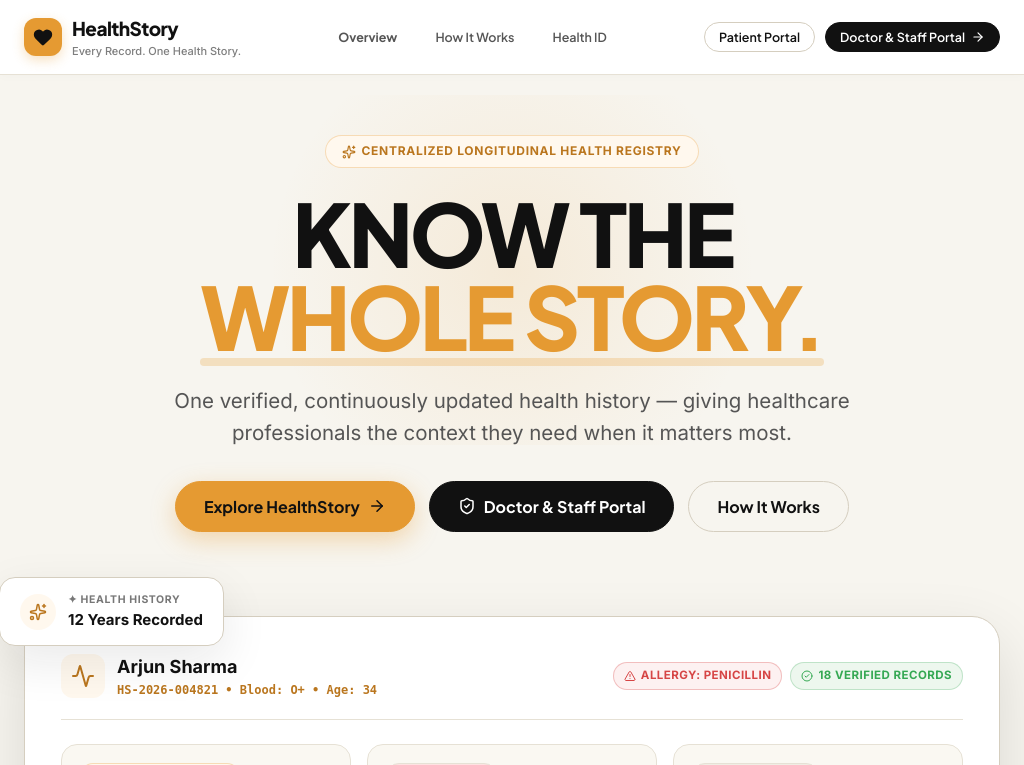
it: HealthStory Comprehensive Application & Button Flow Tests › 3. Doctor Sign-In authenticates registered staff member
Click Doctor & Staff Portal button
Click the 1st button "Doctor & Staff Portal".
click(912, 37)  # box [825,22,1000,52]
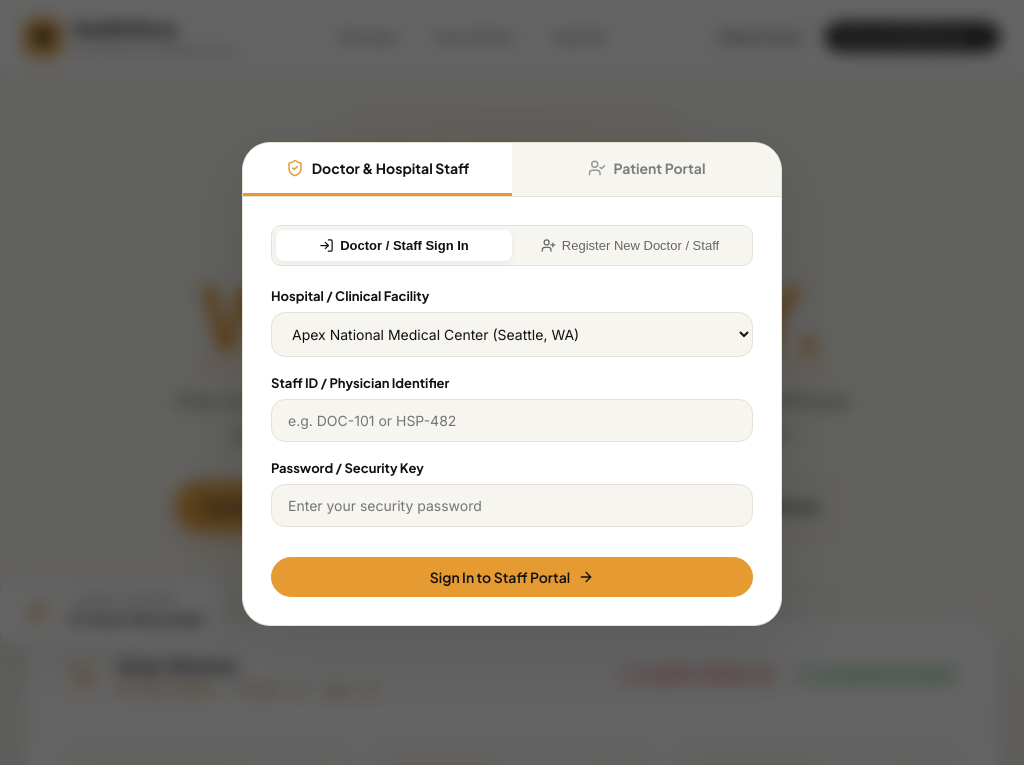
Type "DOC-501" into the field with placeholder "e.g. DOC-101 or HSP-482".
click(512, 421); type("DOC-501")  # box [271,399,753,442]
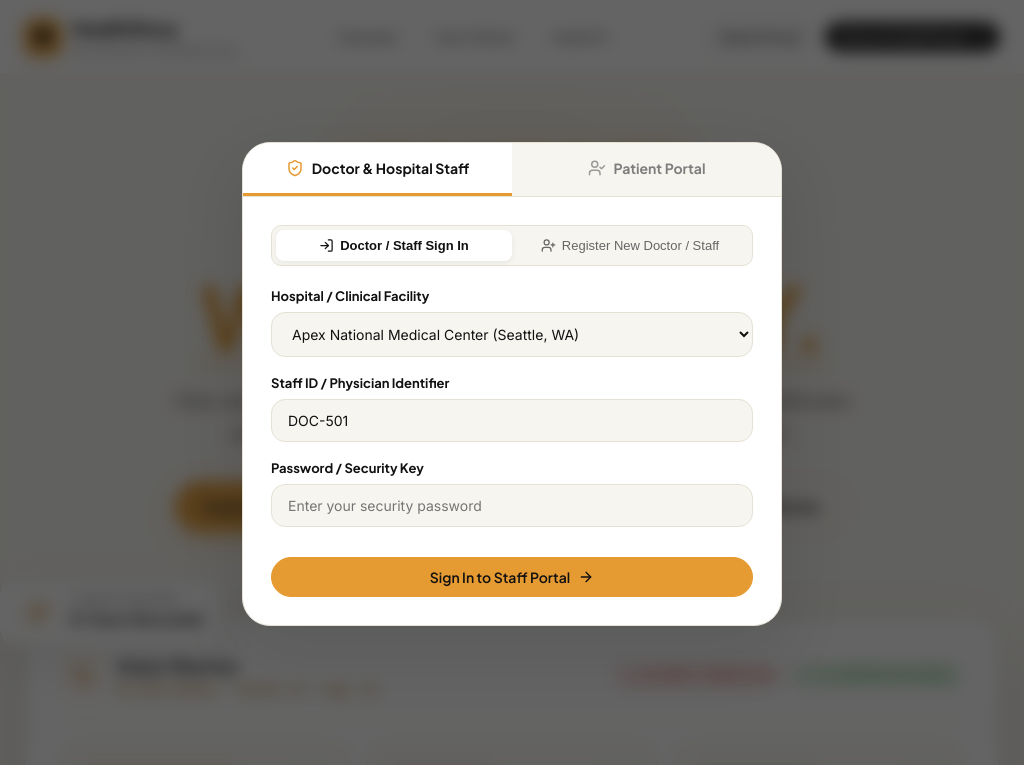
Type "mypassword" into the password field with placeholder "Enter your security password".
click(512, 506); type("mypassword")  # box [271,484,753,527]
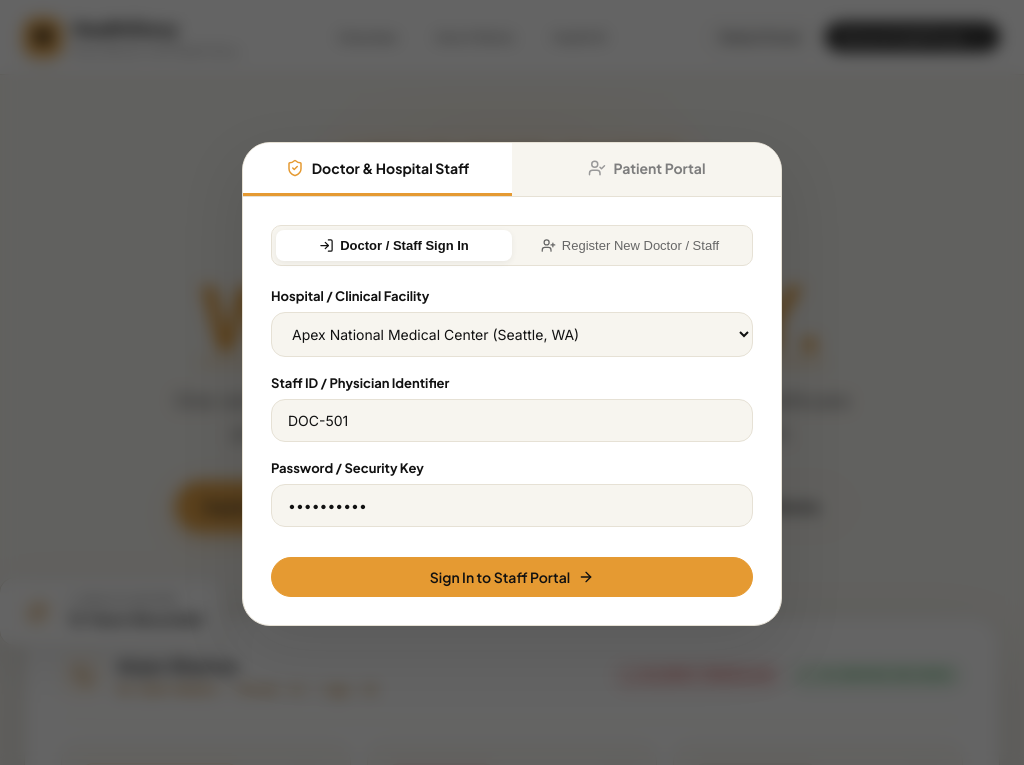
Submit Sign In
Click the button "Sign In to Staff Portal".
click(512, 577)  # box [271,557,753,597]
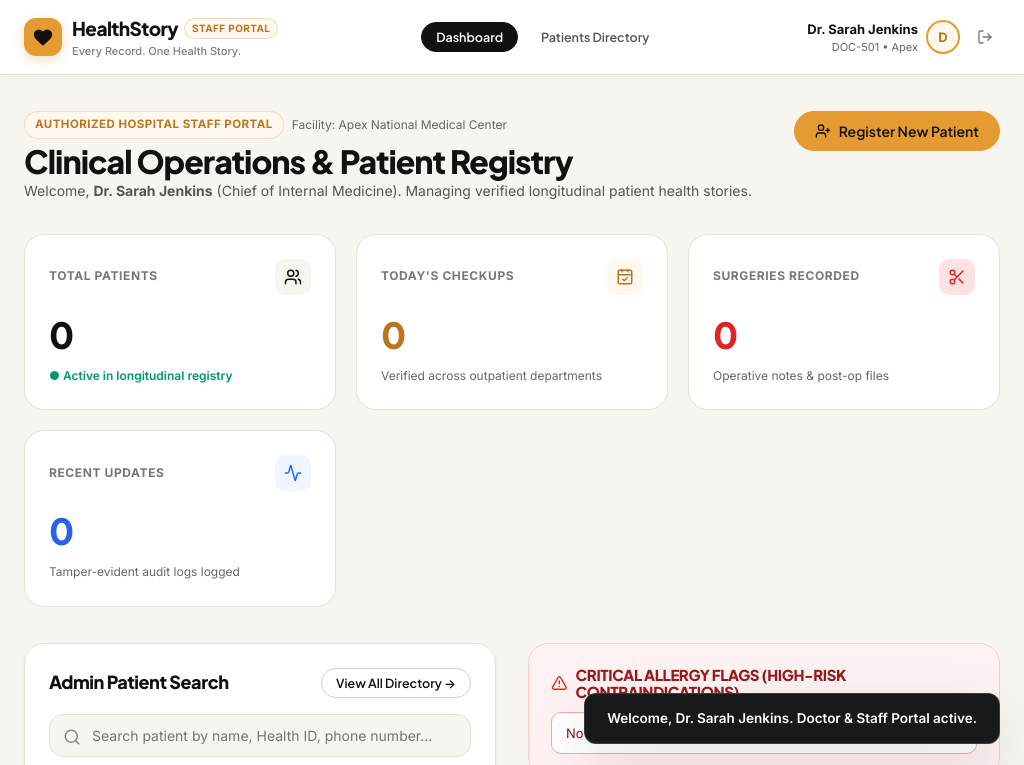
expect the heading "Clinical Operations & Patient Registry" is shown: met, box [24,141,573,181]
expect the text "Dr. Sarah Jenkins" in the row of "HealthStory" is shown: met, box [807,21,918,37]
